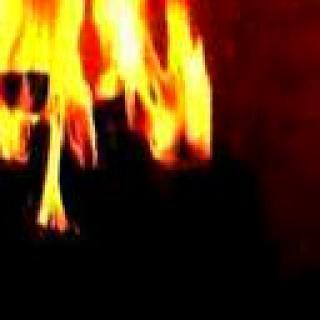fire: (0, 0, 161, 164)
